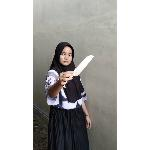Pisau: (62, 54, 95, 88)
